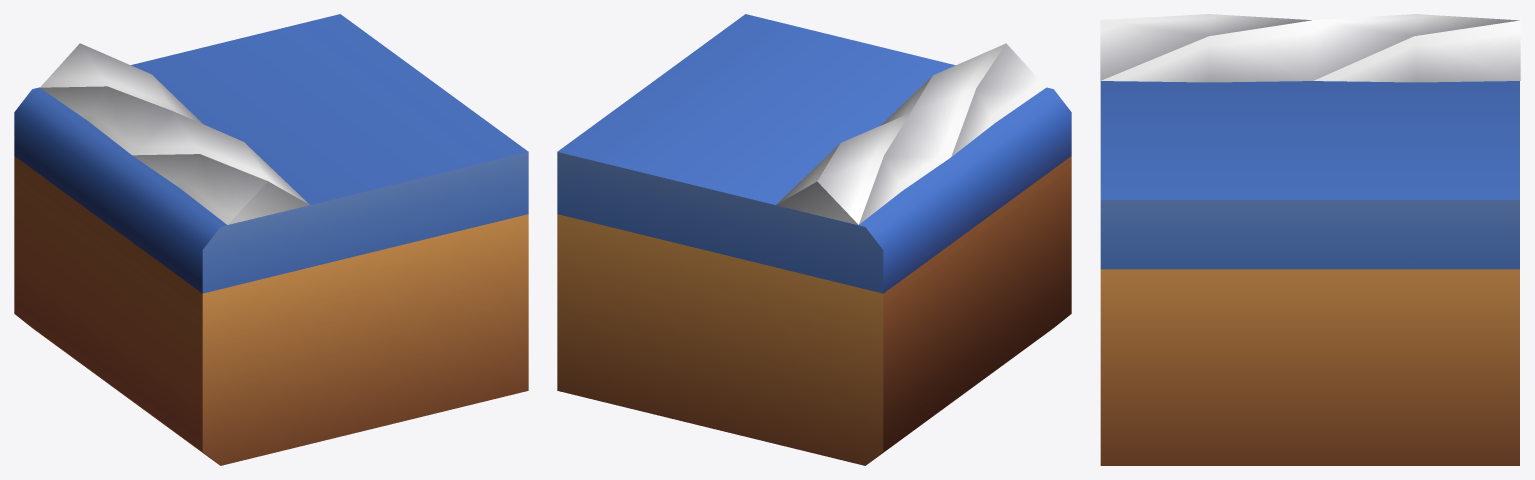
File: m_SheetCake06_Slice02.fbx
3 views of the same model, side by side, from view 1: azimuth 30°, elevation 25°; view 2: azimuth 150°, elevation 25°; view 3: azimuth 270°, elevation 25° (orthographic). The views are drawn at different scales.
Parts seen in each view (by area): view 1: m_SheetCake06_Slice02; view 2: m_SheetCake06_Slice02; view 3: m_SheetCake06_Slice02.
Boxes of the visible parts, x1,y1,x2,y2 form: m_SheetCake06_Slice02: [14, 14, 528, 465]; m_SheetCake06_Slice02: [557, 14, 1071, 465]; m_SheetCake06_Slice02: [1100, 14, 1520, 465].
Size of the model in its own units: 10 by 8 by 10.02.
